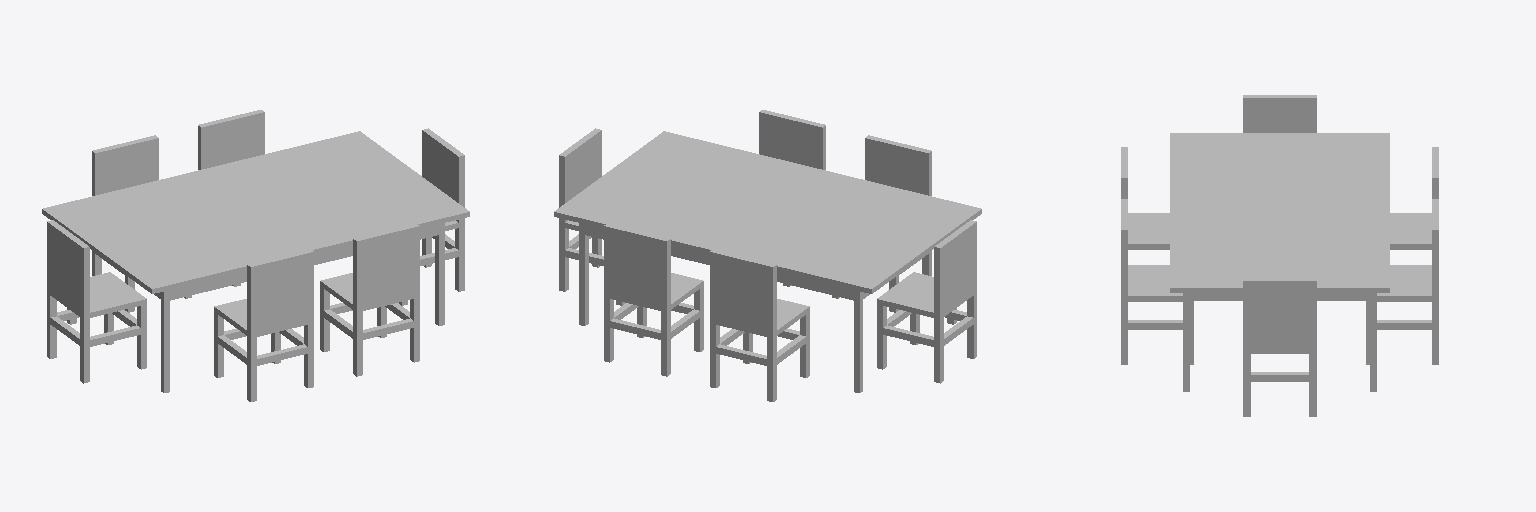
File: tableandchairs.obj
The picture shows the model from 3 angles: view 1: azimuth 30°, elevation 25°; view 2: azimuth 150°, elevation 25°; view 3: azimuth 270°, elevation 25°; orthographic projection.
Parts seen in each view (by area): view 1: Cube_Cube.001, Cube.006_Cube.007, Cube.004_Cube.005, Cube.003_Cube.004, Cube.005_Cube.006, Cube.002_Cube.003, Cube.001_Cube.002; view 2: Cube_Cube.001, Cube.002_Cube.003, Cube.001_Cube.002, Cube.003_Cube.004, Cube.005_Cube.006, Cube.006_Cube.007, Cube.004_Cube.005; view 3: Cube_Cube.001, Cube.005_Cube.006, Cube.001_Cube.002, Cube.004_Cube.005, Cube.003_Cube.004, Cube.002_Cube.003, Cube.006_Cube.007.
Boxes of the visible parts, x1=… form: Cube_Cube.001: x1=42, y1=131, x2=469, y2=392; Cube.006_Cube.007: x1=214, y1=249, x2=313, y2=401; Cube.004_Cube.005: x1=320, y1=223, x2=419, y2=376; Cube.003_Cube.004: x1=47, y1=220, x2=146, y2=383; Cube.005_Cube.006: x1=399, y1=128, x2=464, y2=305; Cube.002_Cube.003: x1=92, y1=135, x2=191, y2=312; Cube.001_Cube.002: x1=198, y1=110, x2=264, y2=286; Cube_Cube.001: x1=554, y1=131, x2=981, y2=392; Cube.002_Cube.003: x1=710, y1=249, x2=809, y2=401; Cube.001_Cube.002: x1=604, y1=223, x2=703, y2=376; Cube.003_Cube.004: x1=877, y1=220, x2=976, y2=383; Cube.005_Cube.006: x1=559, y1=128, x2=624, y2=305; Cube.006_Cube.007: x1=832, y1=135, x2=931, y2=312; Cube.004_Cube.005: x1=759, y1=110, x2=825, y2=286; Cube_Cube.001: x1=1170, y1=133, x2=1389, y2=391; Cube.005_Cube.006: x1=1243, y1=278, x2=1316, y2=416; Cube.001_Cube.002: x1=1366, y1=199, x2=1438, y2=364; Cube.004_Cube.005: x1=1121, y1=199, x2=1193, y2=364; Cube.003_Cube.004: x1=1243, y1=95, x2=1316, y2=132; Cube.002_Cube.003: x1=1390, y1=147, x2=1438, y2=249; Cube.006_Cube.007: x1=1121, y1=147, x2=1169, y2=249.
Size of the model in its own units: 7.2 by 2.44 by 5.2.